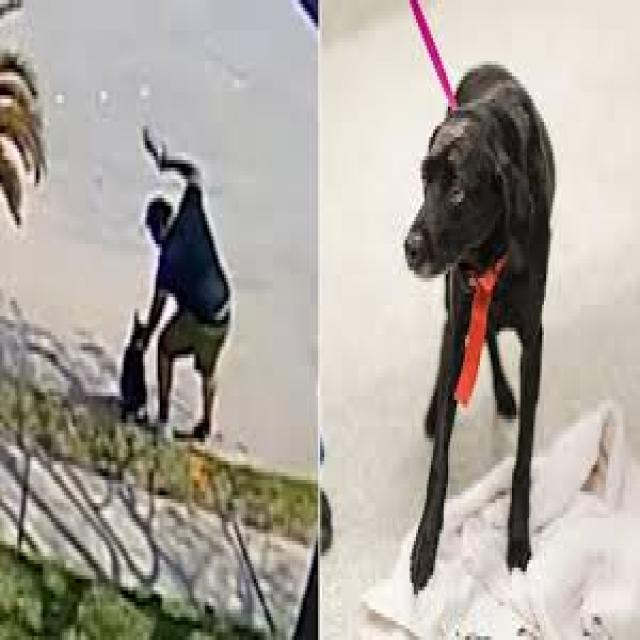normal_animals: (397, 54, 559, 590)
